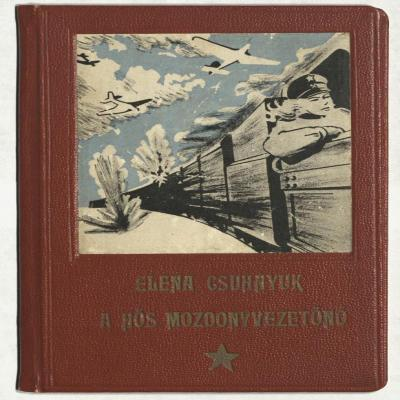printed_products: (16, 0, 357, 397)
